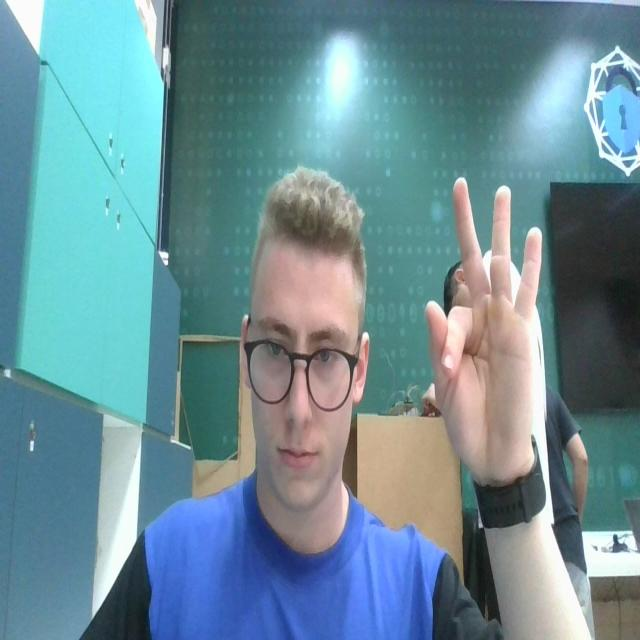F: (423, 165, 547, 480)
